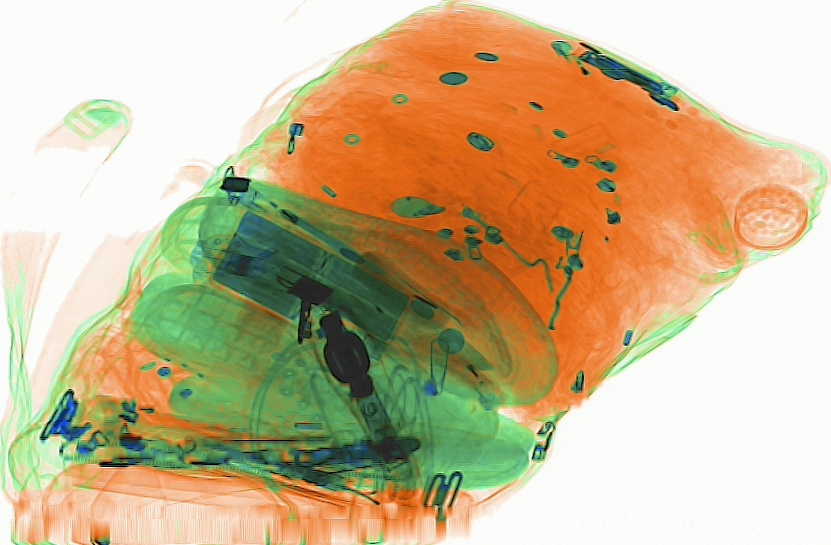lighter: (409, 329, 508, 413)
powerbank: (206, 206, 421, 365)
